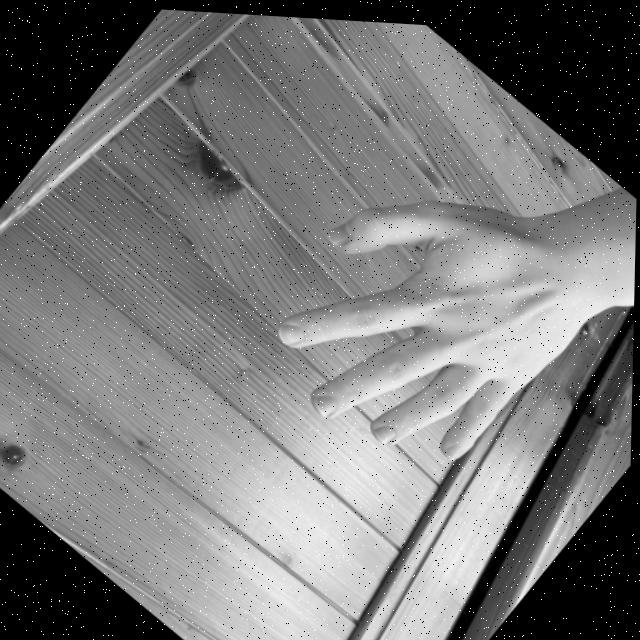hand: (231, 114, 617, 517)
